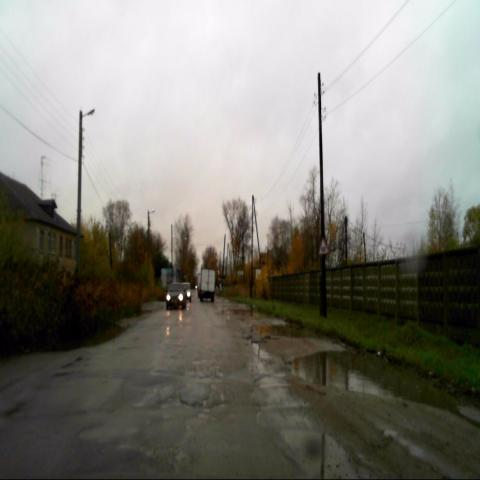1_1: (318, 236, 330, 255)
